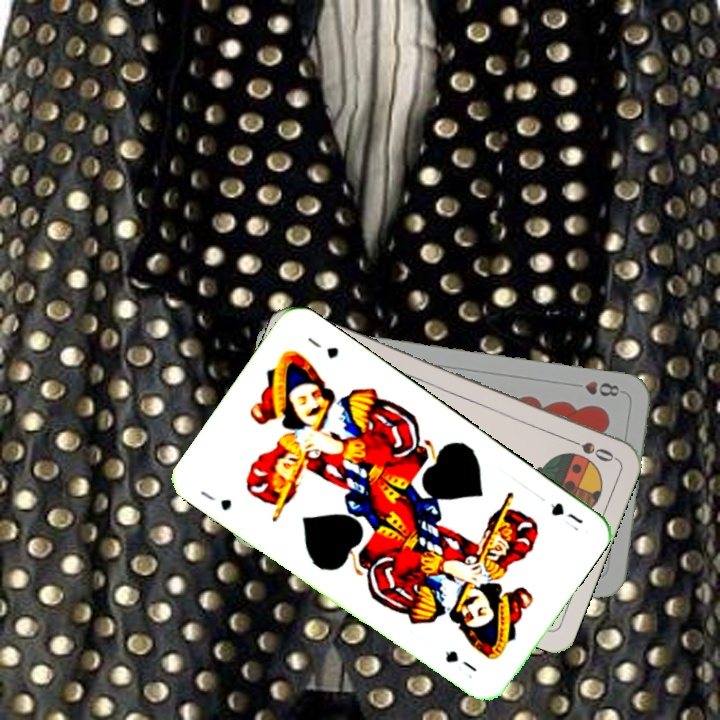GU: (546, 498, 586, 527), (196, 486, 235, 513)
H8: (567, 377, 622, 399)
SO: (561, 433, 618, 465)
